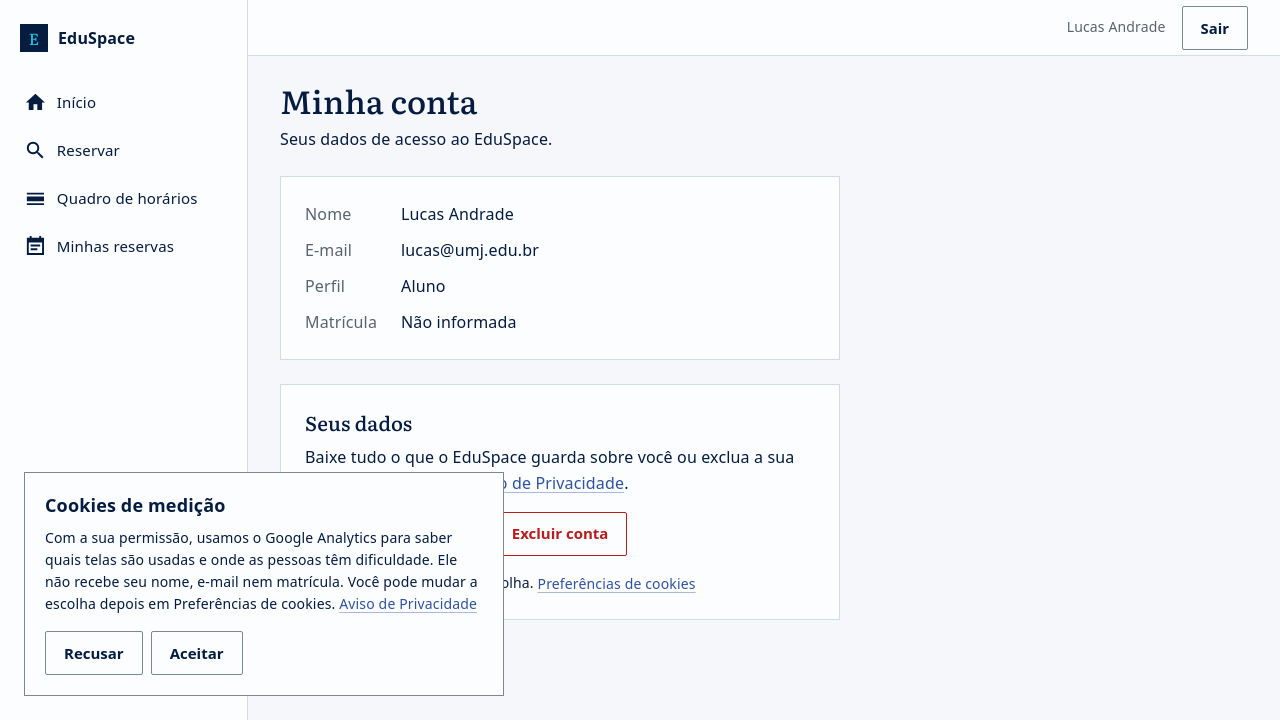
my data › deletes the account and ends the session
Click the button "Excluir conta": {"x": 560, "y": 534} 493,512 -> 627,556
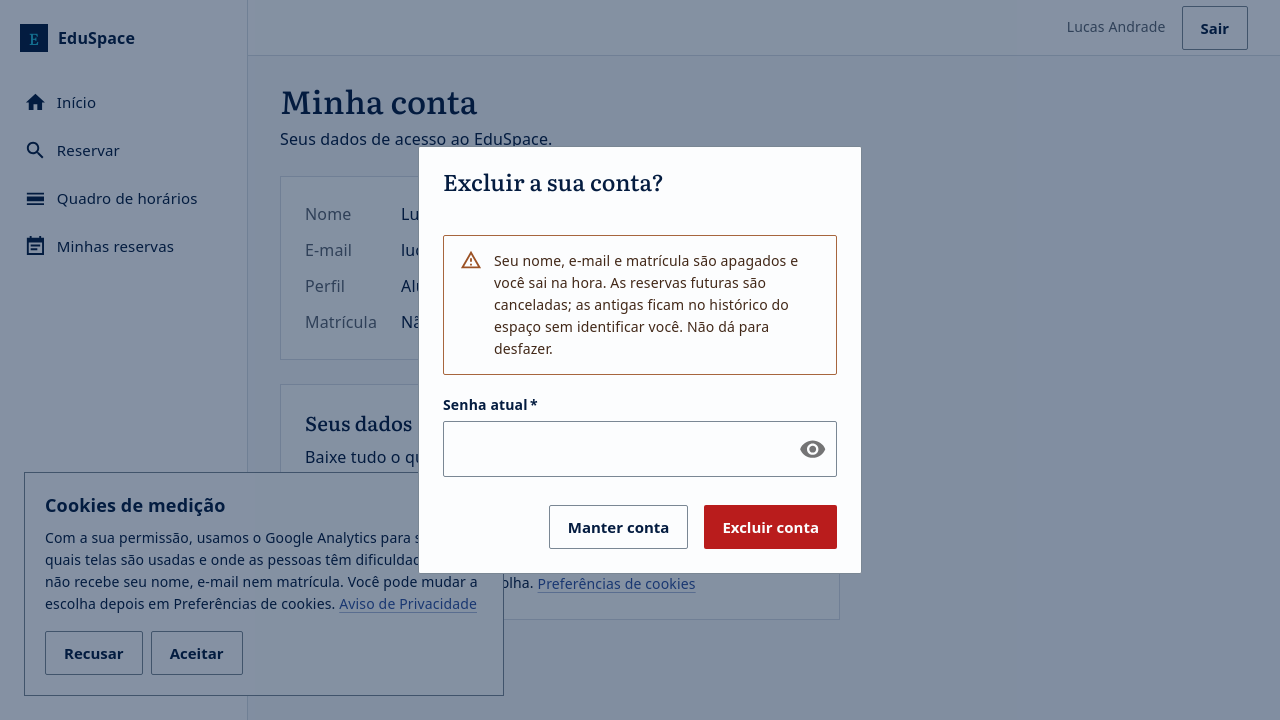
In the password field labelled "Senha atual *": {"x": 613, "y": 449} 443,421 -> 783,477, type "Senha123"
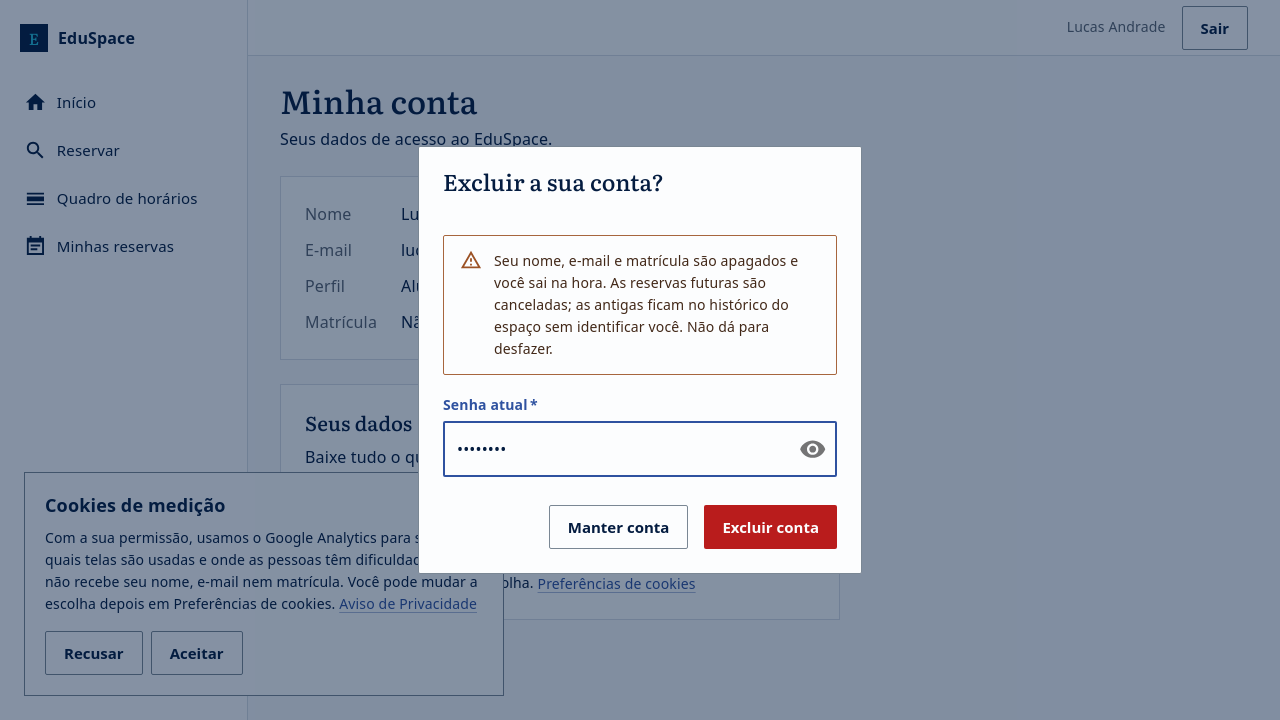
Click the button "Excluir conta": {"x": 771, "y": 527} 704,505 -> 837,549
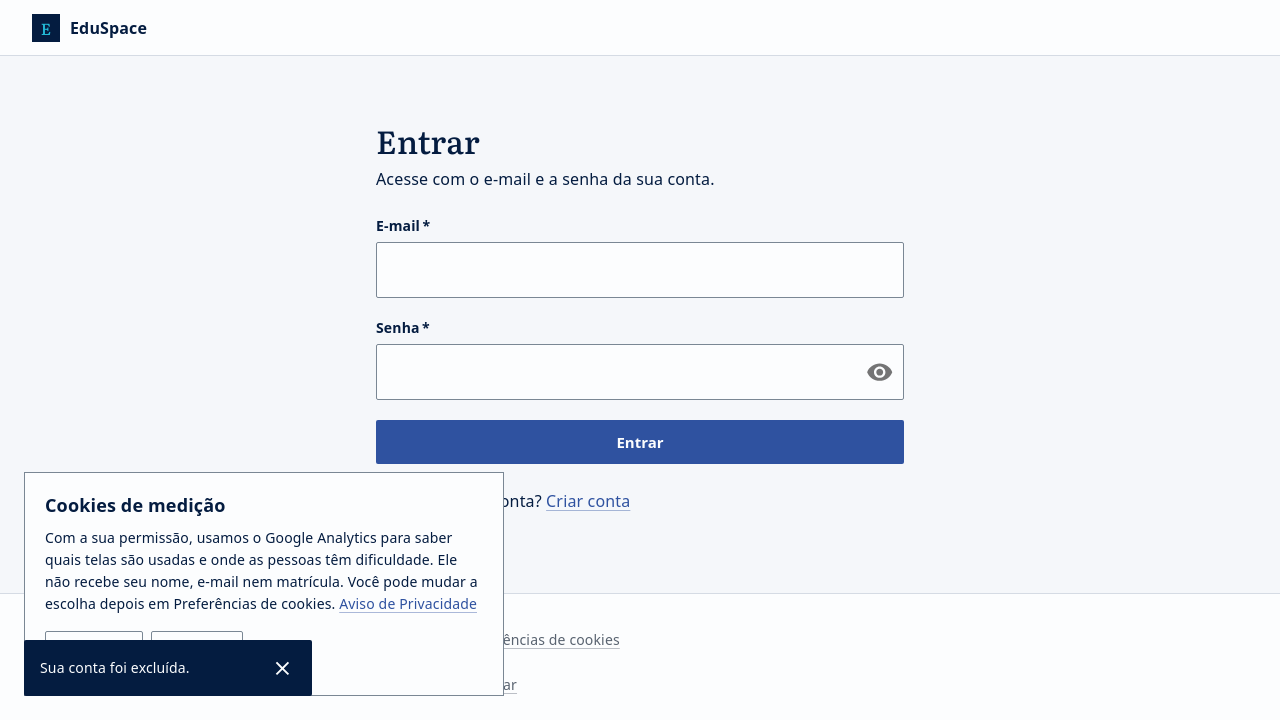
Expected: the message reads "Sua conta foi excluída.", 40,658 -> 190,677
